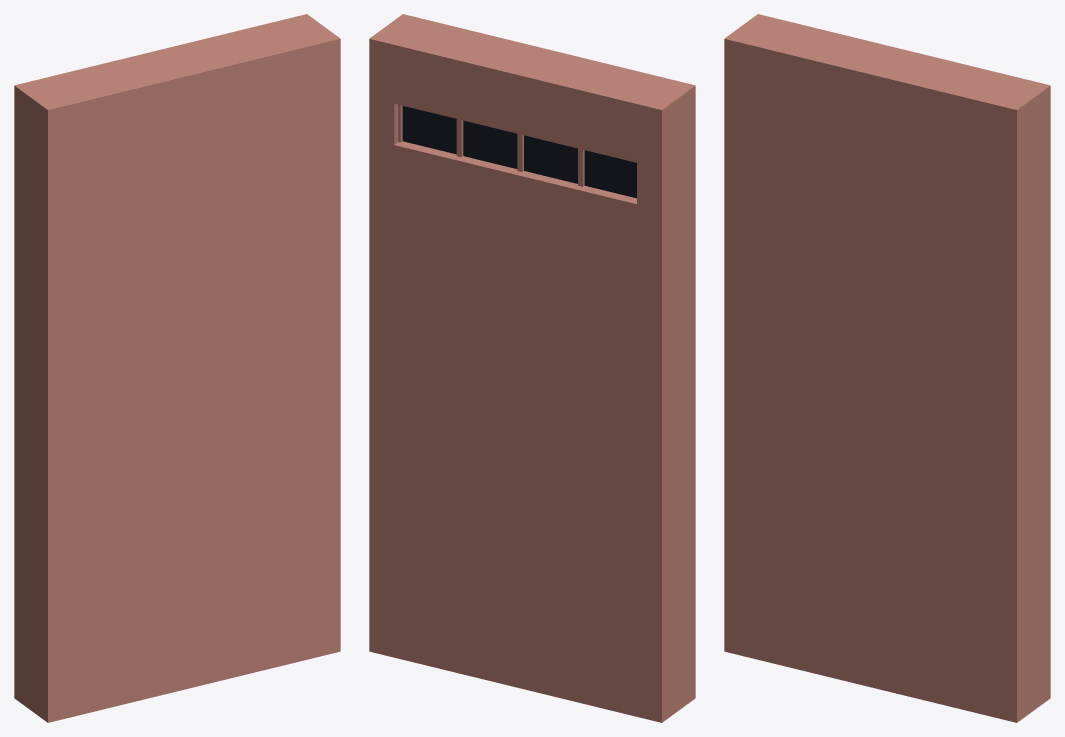
The model's file is BasicWall5x1x10_1.fbx.
3 renders of one model, left to right at view 1: azimuth 30°, elevation 25°; view 2: azimuth 150°, elevation 25°; view 3: azimuth 330°, elevation 25°, orthographic.
Parts seen in each view (by area): view 1: BasicWall5x1x10_1.001; view 2: BasicWall5x1x10_1.001; view 3: BasicWall5x1x10_1.001.
Part boxes in pixels (x1,y1,x2,y2): BasicWall5x1x10_1.001: [14, 14, 340, 722]; BasicWall5x1x10_1.001: [369, 14, 695, 722]; BasicWall5x1x10_1.001: [724, 14, 1050, 722].
Size of the model in its own units: 500 by 1000 by 100.
